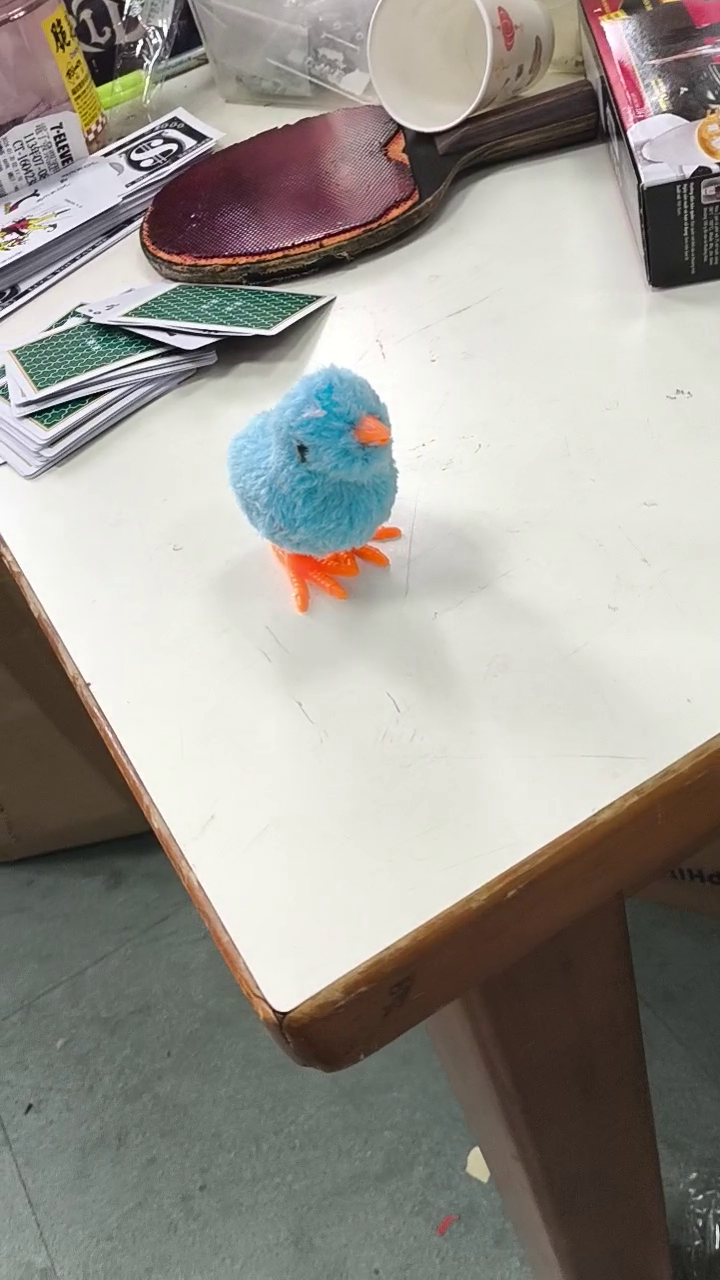blue chicken: (224, 362, 413, 622)
